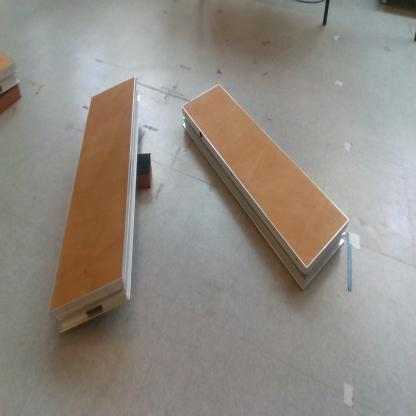Stairs: (182, 83, 351, 293), (48, 76, 143, 339), (1, 50, 21, 99)
